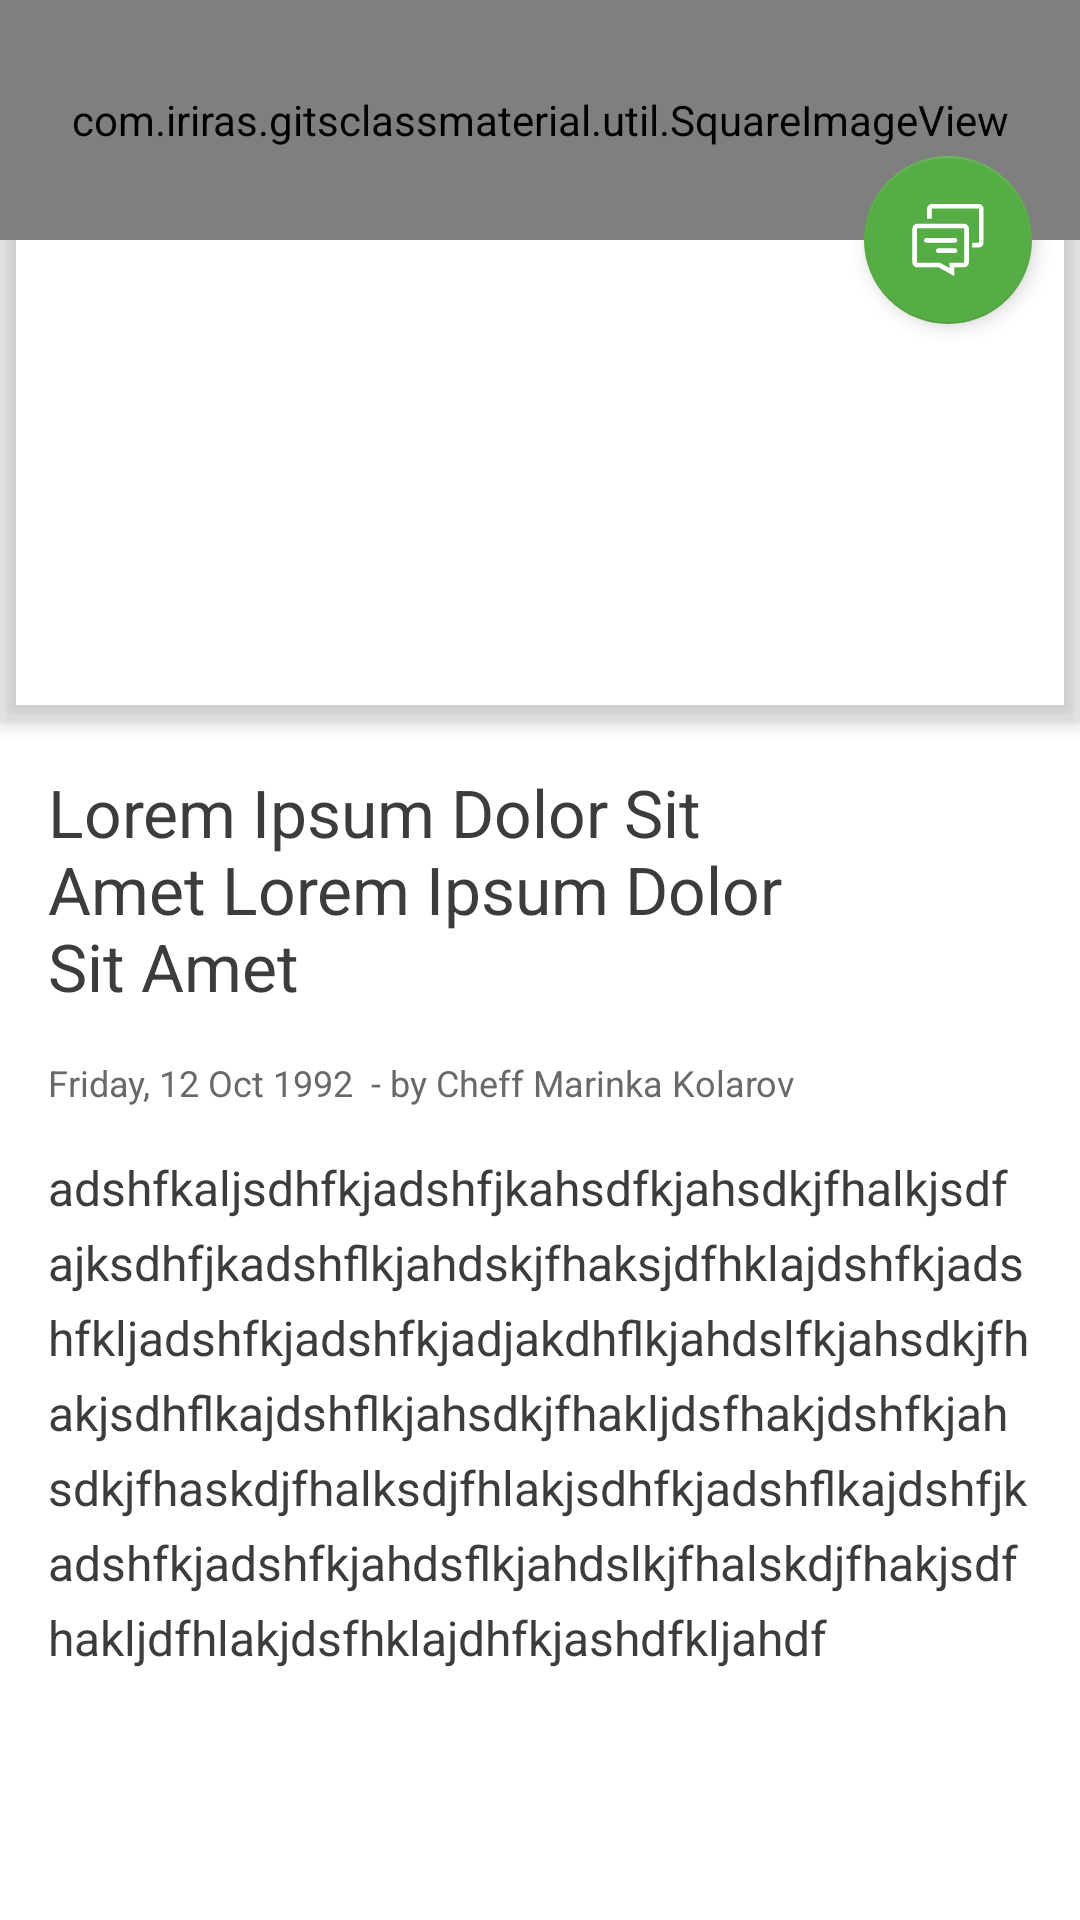

Where to tap for icons on this 1080 × 1920 app screen, as (x,y):
comment: (948,240)
